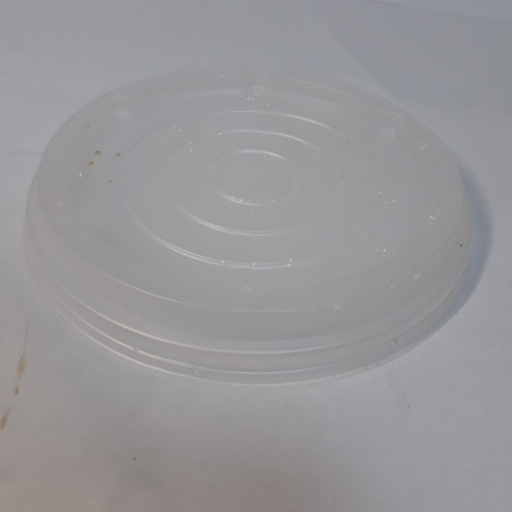Plastic_5: (23, 66, 479, 386)
